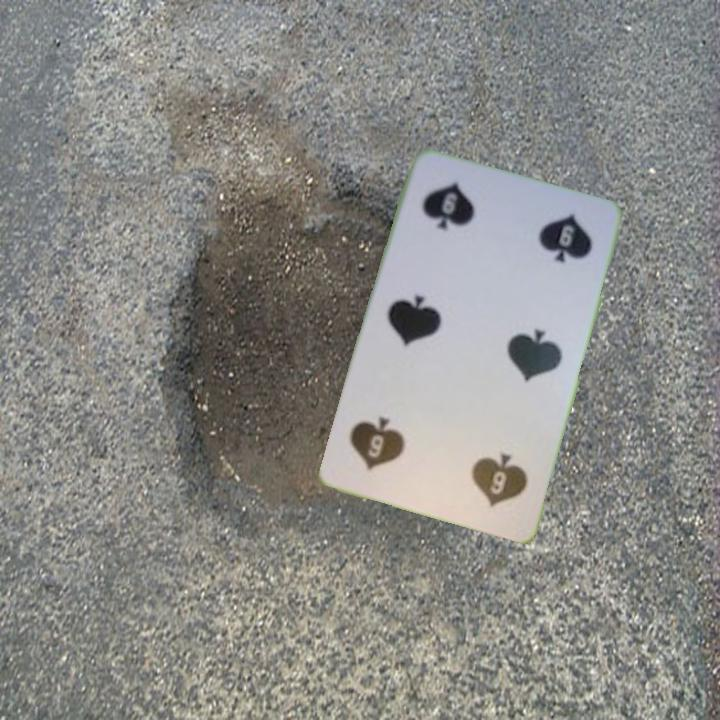s_6.png: (400, 164, 518, 273), (426, 417, 545, 525)
